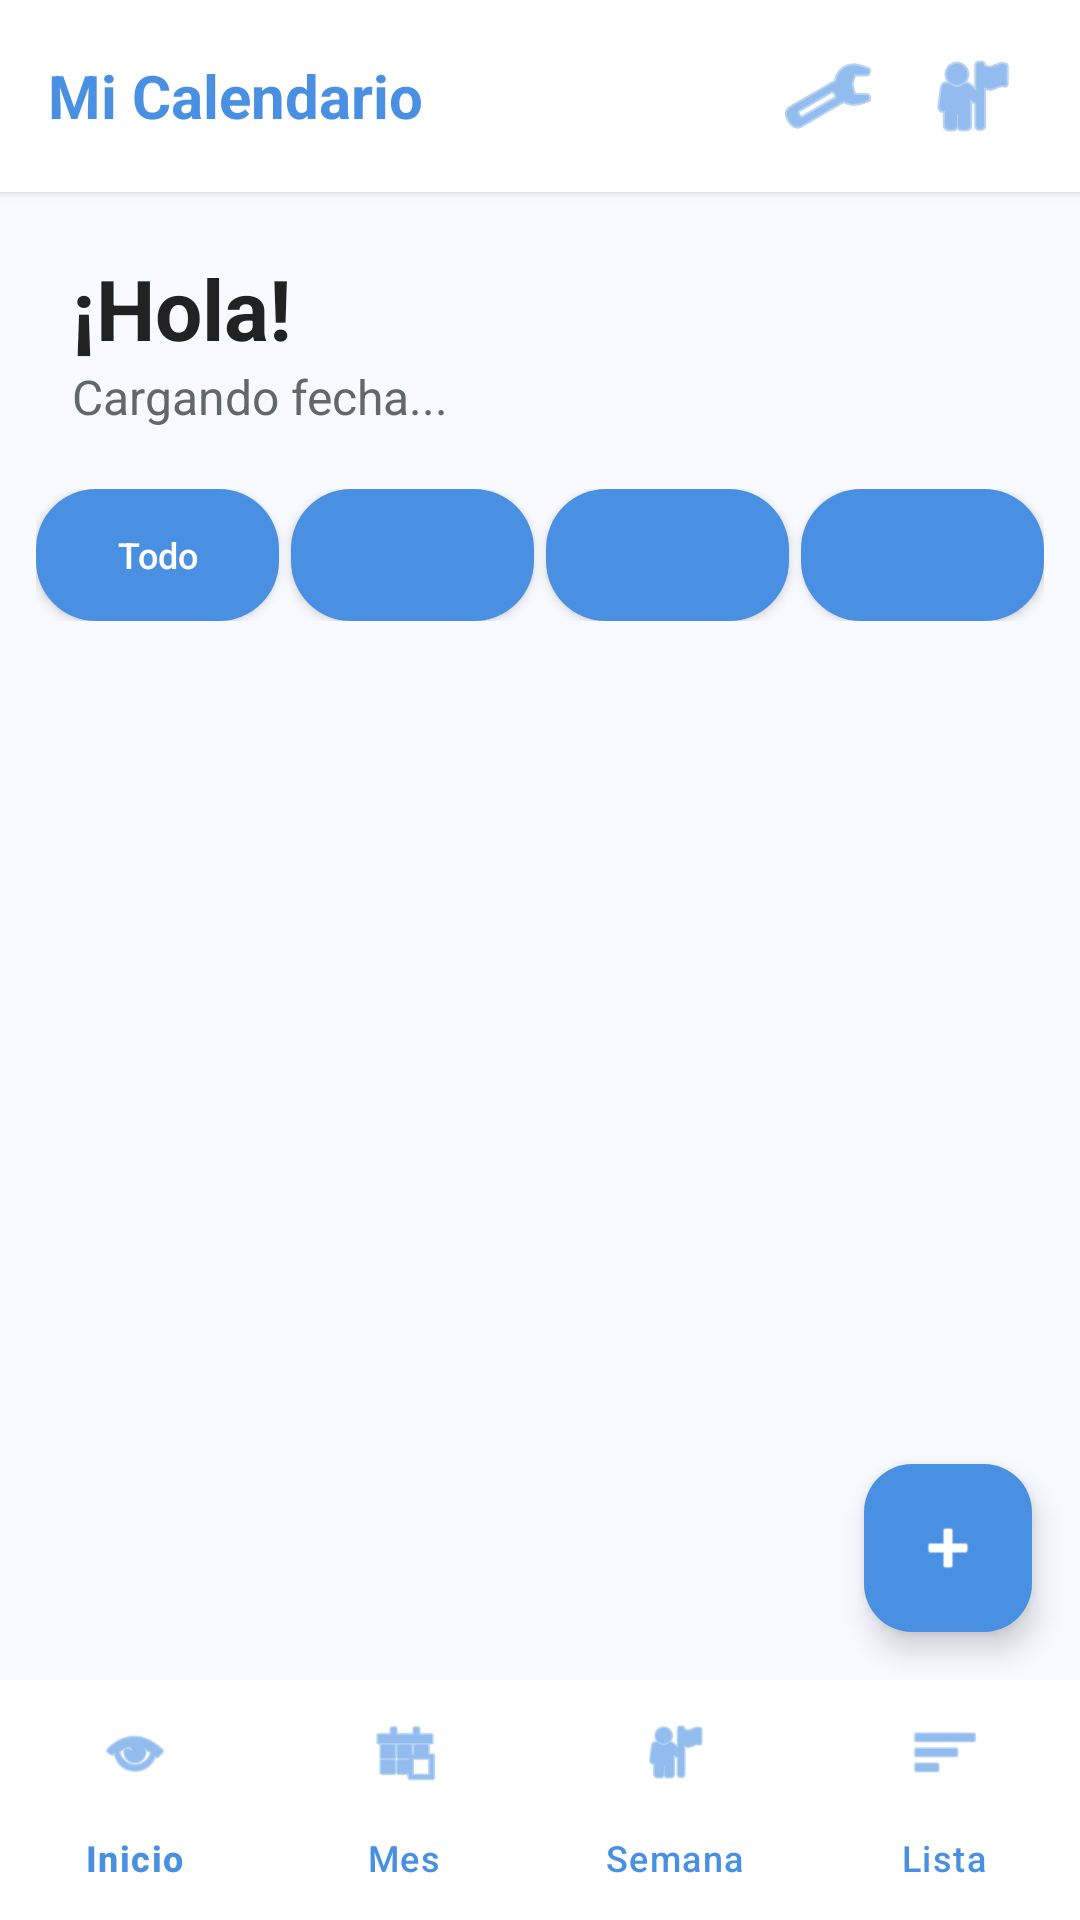

Point at icon controls on the screen. Image size 1080*1920, points as point (x, y).
add: point (948, 1548)
myplaces: point (973, 96)
preferences: point (828, 96)
